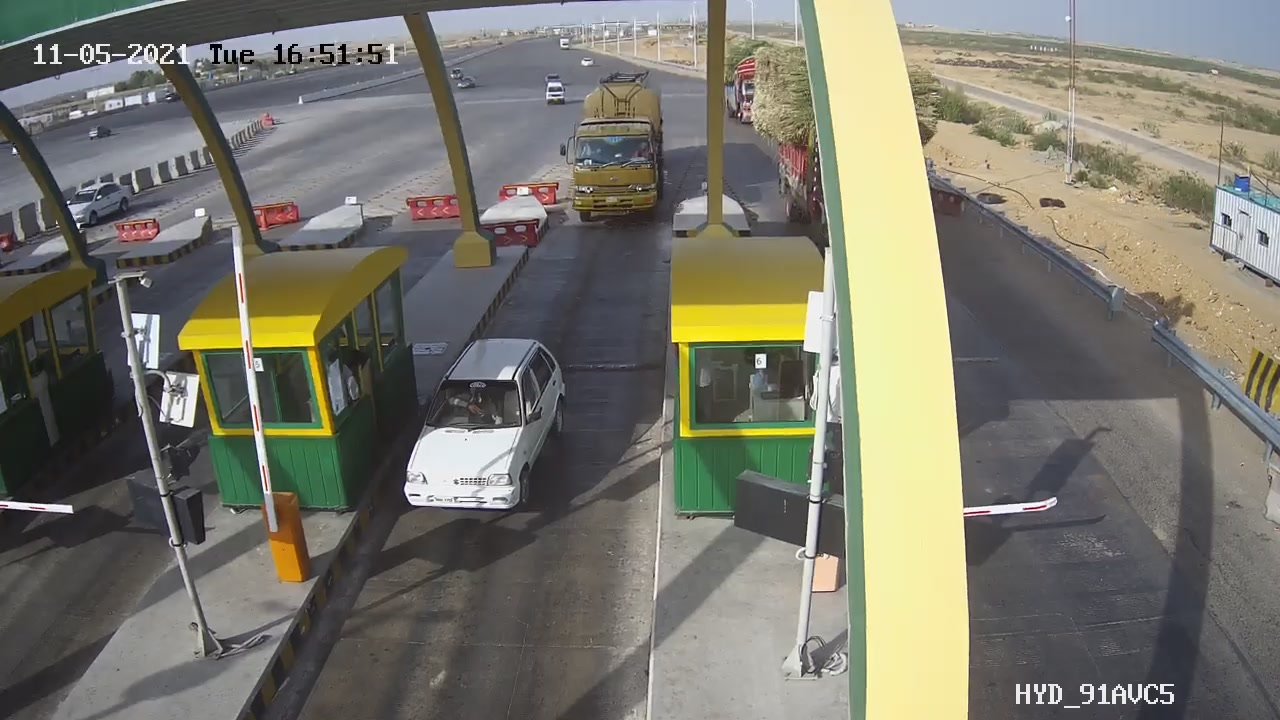F1: (387, 323, 589, 533)
